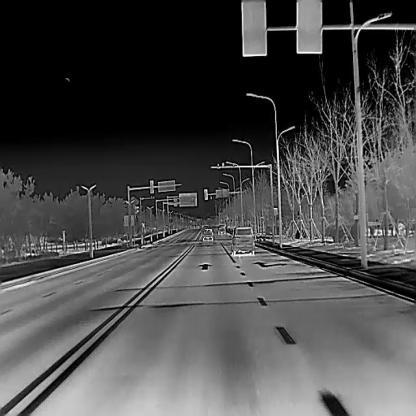car: (231, 224, 254, 255), (202, 228, 213, 241), (217, 224, 225, 234)
